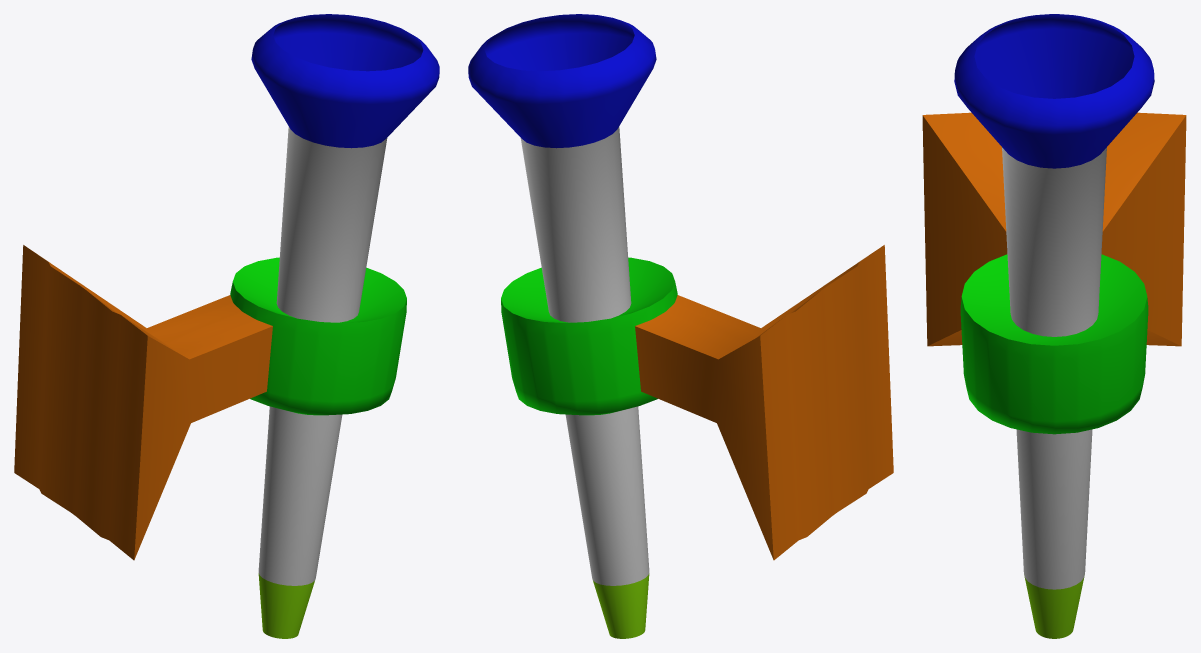
File: torch.fbx
The picture shows the model from 3 angles, left to right: view 1: azimuth 30°, elevation 25°; view 2: azimuth 150°, elevation 25°; view 3: azimuth 270°, elevation 25°; orthographic projection. The views are drawn at different scales.
Parts seen in each view (by area): view 1: Torch (×5); view 2: Torch (×5); view 3: Torch (×5).
Boxes of the visible parts, x1,y1,x2,y2 form: Torch (×5): (14, 14, 439, 638); Torch (×5): (468, 14, 893, 638); Torch (×5): (922, 14, 1186, 638).
Bounding box in the file's own units: 49.6 × 77.67 × 30.06.
